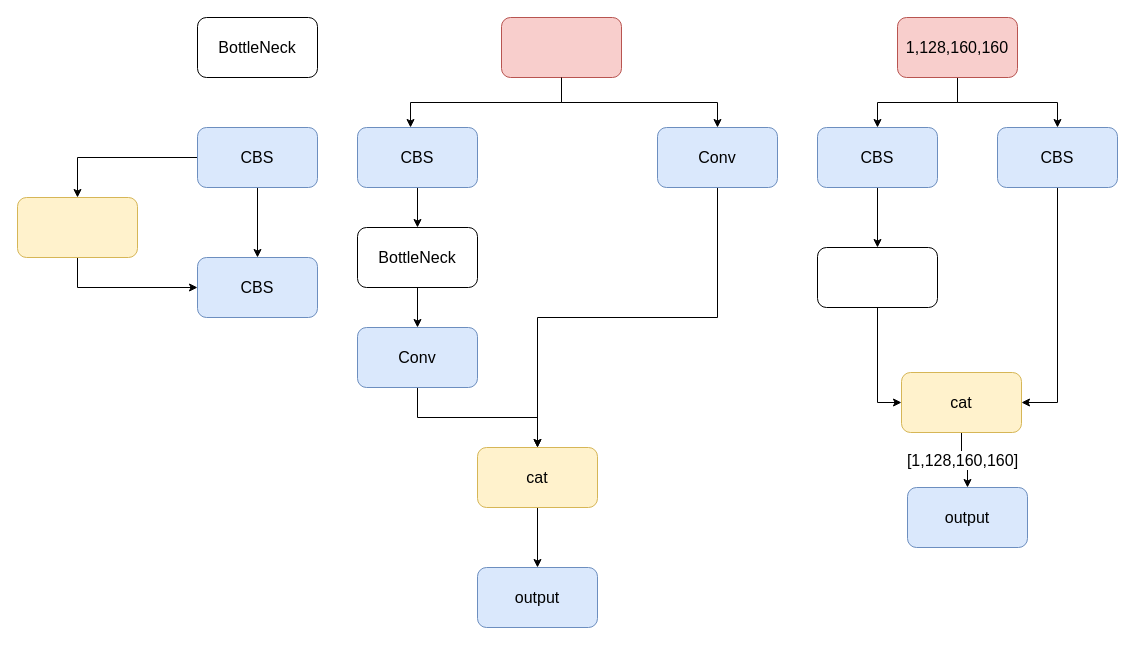
Some shapes in this 1135 by 645 pixel diagram are drawn without their labels. Each missing label, with the box of its shape:
add: (16, 196, 138, 258)
BottleNeck*n: (816, 246, 938, 308)
input: (500, 16, 622, 78)
